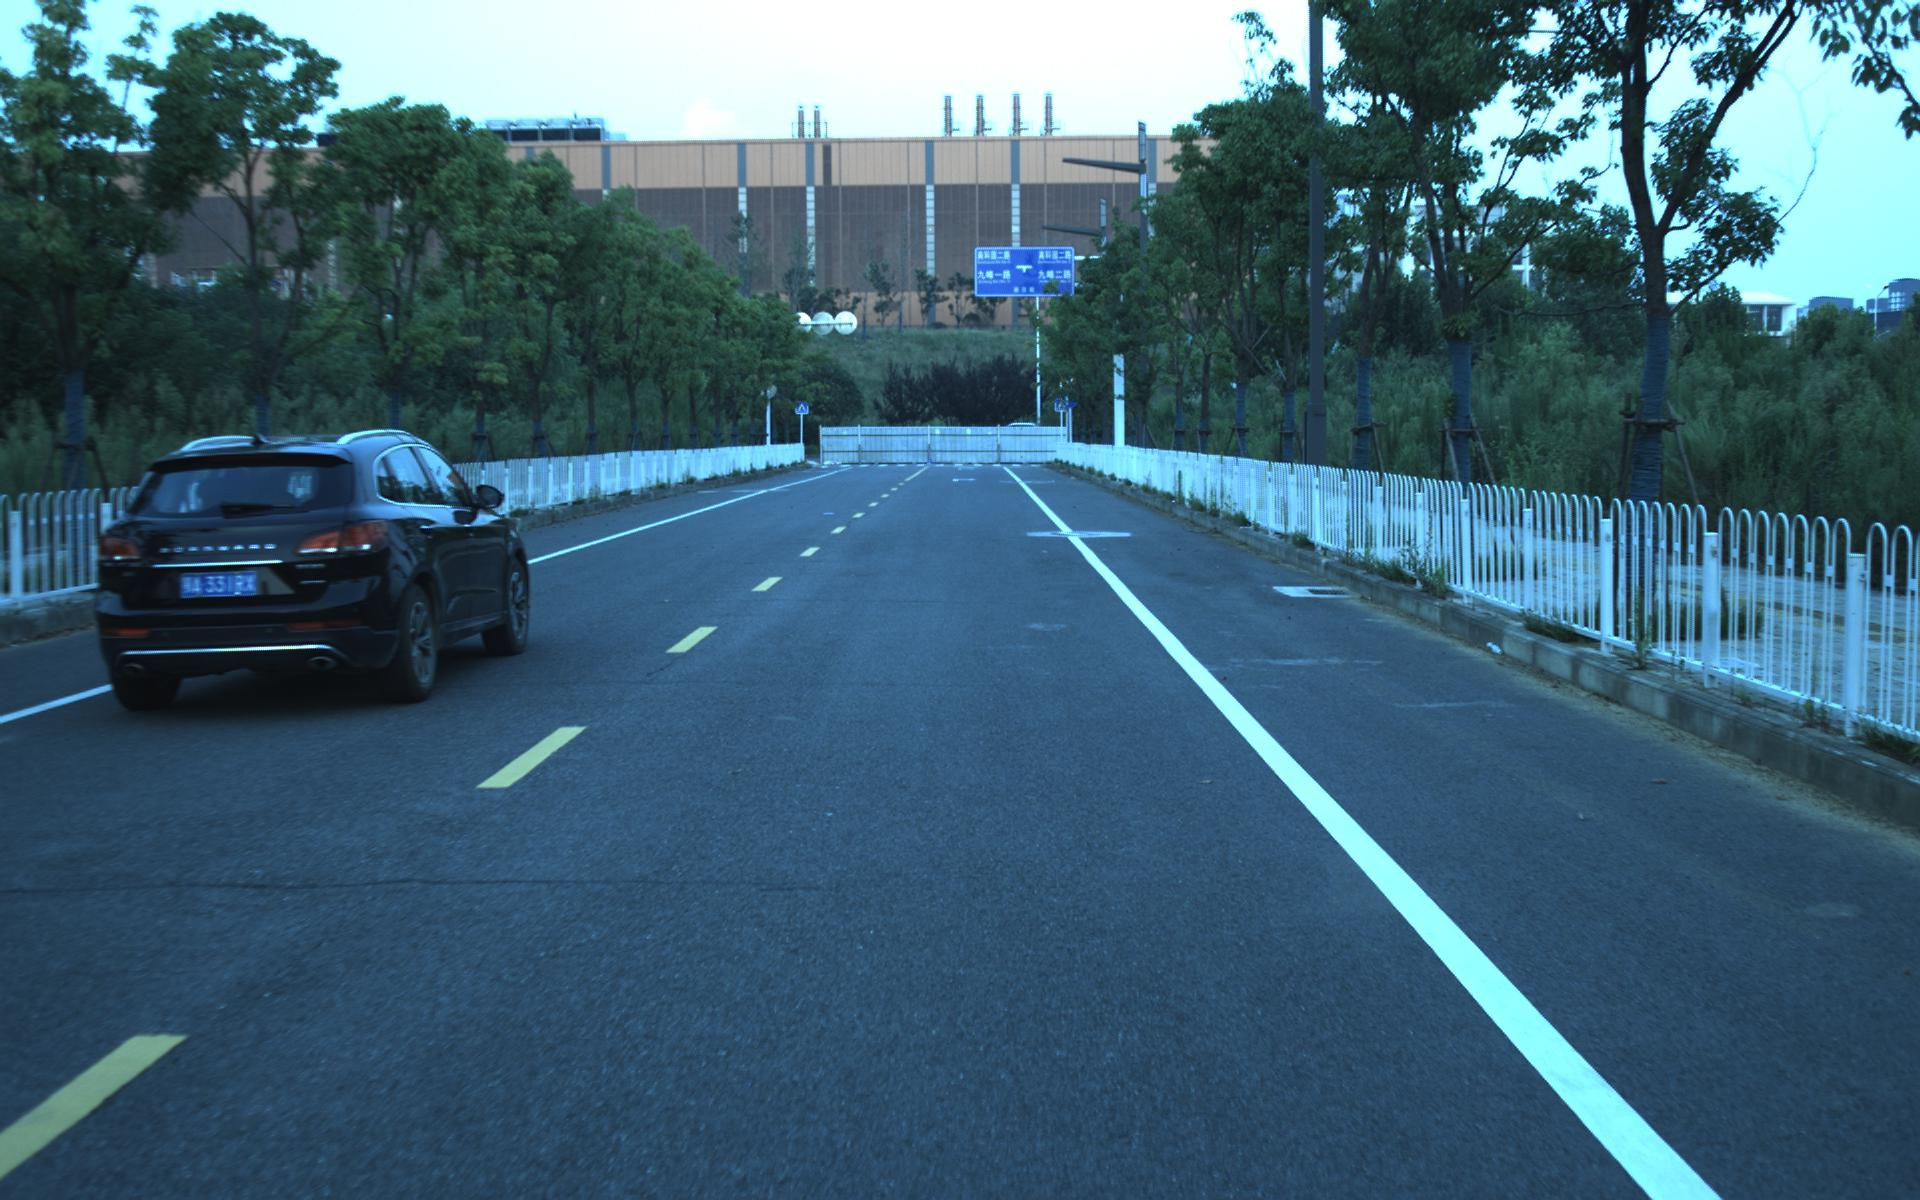Car: (73, 420, 538, 718)
